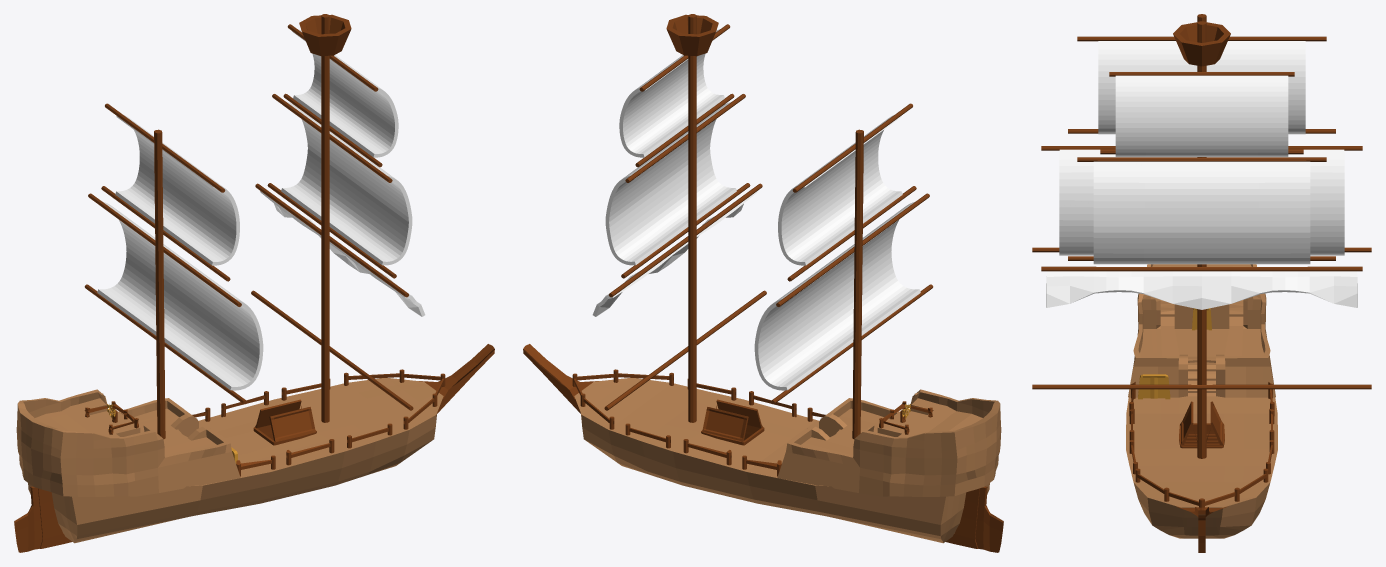
File: ships_00_vessel.fbx
3 renders of one model, left to right at view 1: azimuth 30°, elevation 25°; view 2: azimuth 150°, elevation 25°; view 3: azimuth 270°, elevation 25°, orthographic. The views are drawn at different scales.
Visible parts, largest first — view 1: Flags.011, Base.014, Rooms base.007, Main pole.003, Main pole.002, Quill.009, Lower deck border.001, Lower deck door.009; view 2: Flags.011, Base.014, Rooms base.007, Main pole.003, Main pole.002, Quill.009, Lower deck border.001, Lower deck door.009; view 3: Flags.011, Base.014, Rooms base.007, Main pole.003, Main pole.002, Lower deck border.001, Lower deck door.009, Crew door.009, Quill.009.
Boxes of the visible parts, left/top/right/bottom form: Flags.011: left=97, top=29, right=425, bottom=390; Base.014: left=28, top=378, right=443, bottom=543; Rooms base.007: left=16, top=389, right=240, bottom=496; Main pole.003: left=251, top=14, right=413, bottom=422; Main pole.002: left=84, top=103, right=246, bottom=438; Quill.009: left=14, top=344, right=494, bottom=552; Lower deck border.001: left=192, top=369, right=445, bottom=476; Lower deck door.009: left=253, top=399, right=316, bottom=445; Flags.011: left=592, top=29, right=920, bottom=390; Base.014: left=574, top=378, right=989, bottom=543; Rooms base.007: left=777, top=389, right=1001, bottom=496; Main pole.003: left=604, top=14, right=766, bottom=422; Main pole.002: left=771, top=103, right=933, bottom=438; Quill.009: left=523, top=344, right=1003, bottom=552; Lower deck border.001: left=572, top=369, right=825, bottom=476; Lower deck door.009: left=701, top=399, right=764, bottom=445; Flags.011: left=1046, top=41, right=1357, bottom=309; Base.014: left=1126, top=396, right=1277, bottom=538; Rooms base.007: left=1128, top=264, right=1275, bottom=397; Main pole.003: left=1032, top=21, right=1371, bottom=458; Main pole.002: left=1032, top=14, right=1371, bottom=252; Lower deck border.001: left=1129, top=382, right=1274, bottom=507; Lower deck door.009: left=1179, top=401, right=1224, bottom=448; Crew door.009: left=1138, top=374, right=1170, bottom=399; Quill.009: left=1176, top=506, right=1227, bottom=552.
Size of the model in its own units: 5059 by 4675 by 2900.
